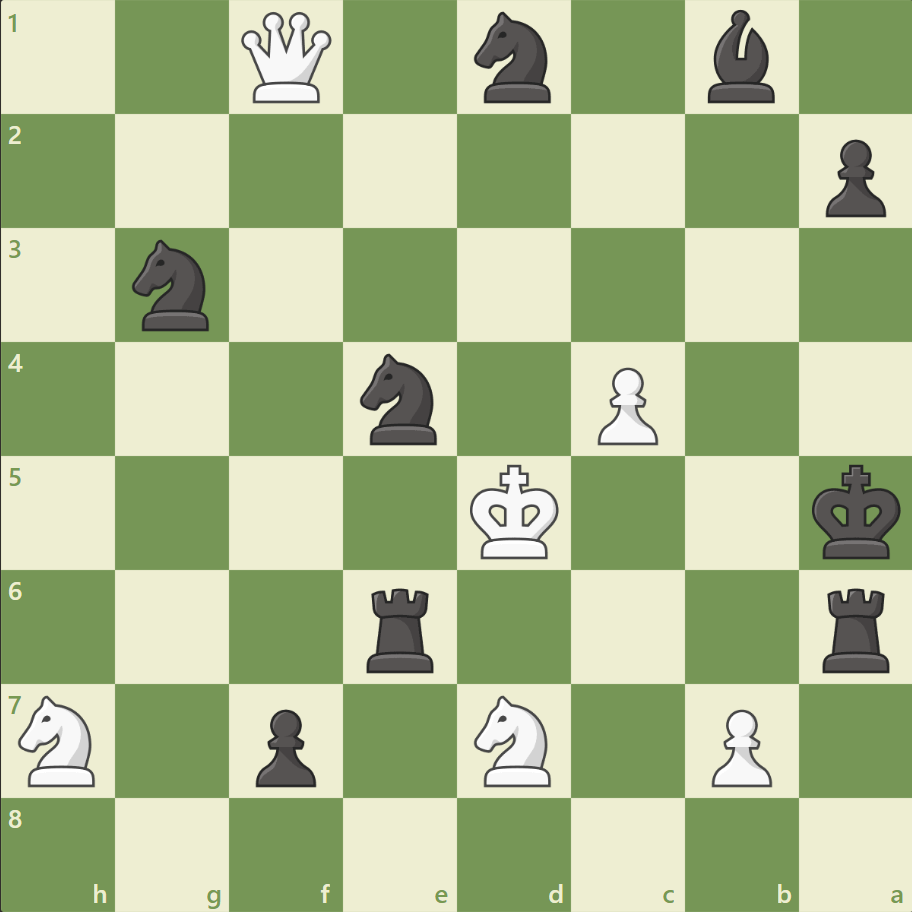K: (465, 458, 565, 566)
N: (465, 688, 562, 791), (11, 688, 108, 791)
P: (701, 700, 776, 791), (588, 359, 662, 450)
Q: (237, 9, 336, 108)
b: (698, 6, 782, 109)
k: (806, 458, 906, 566)
n: (124, 234, 222, 337), (351, 348, 449, 450), (465, 7, 562, 110)
p: (247, 700, 322, 791), (815, 132, 889, 223)
r: (814, 579, 897, 676), (360, 579, 442, 676)
